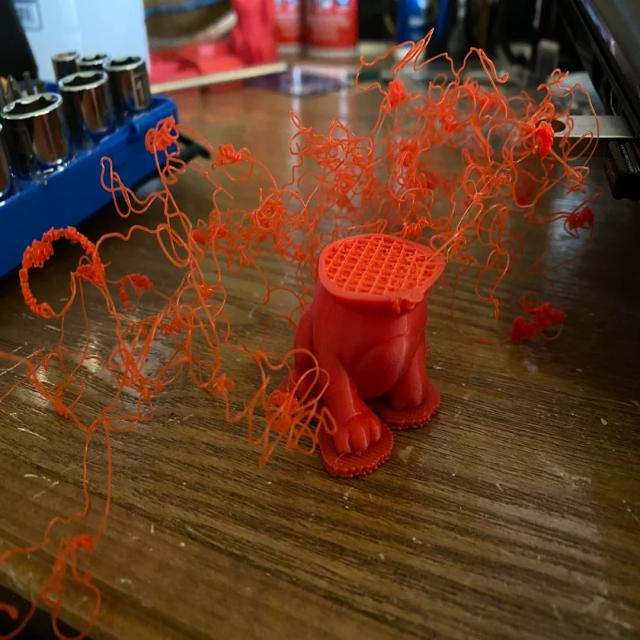Spaghetti: (18, 117, 298, 488), (306, 29, 596, 264)
